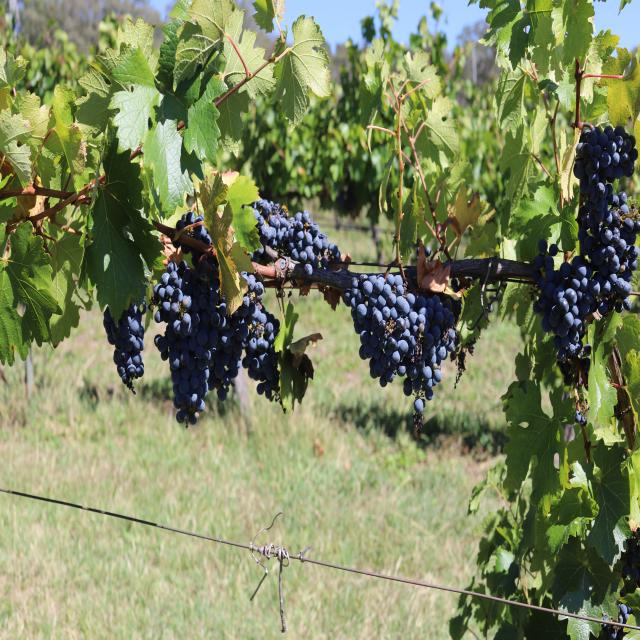grapes: (533, 125, 640, 384), (344, 273, 461, 433), (252, 199, 340, 276), (103, 301, 146, 394)
